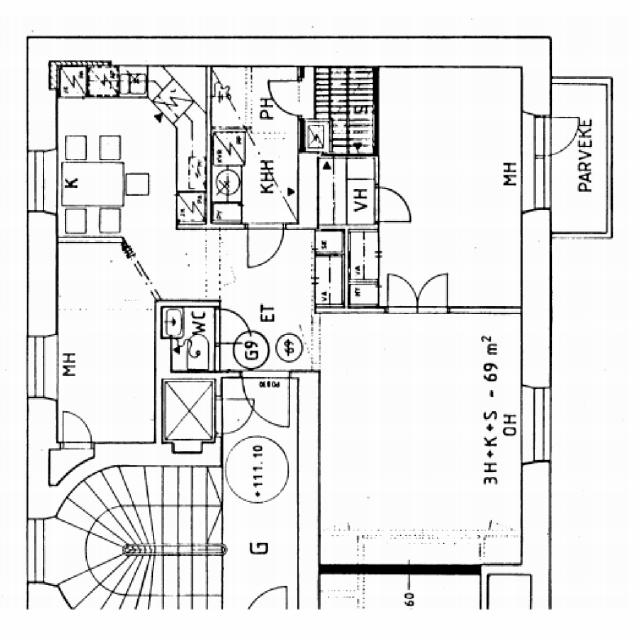door: (242, 372, 288, 428), (522, 116, 584, 155), (247, 224, 283, 267), (266, 80, 304, 114), (214, 309, 252, 343), (374, 188, 411, 222), (417, 275, 447, 313), (387, 275, 417, 313), (63, 411, 91, 448)
